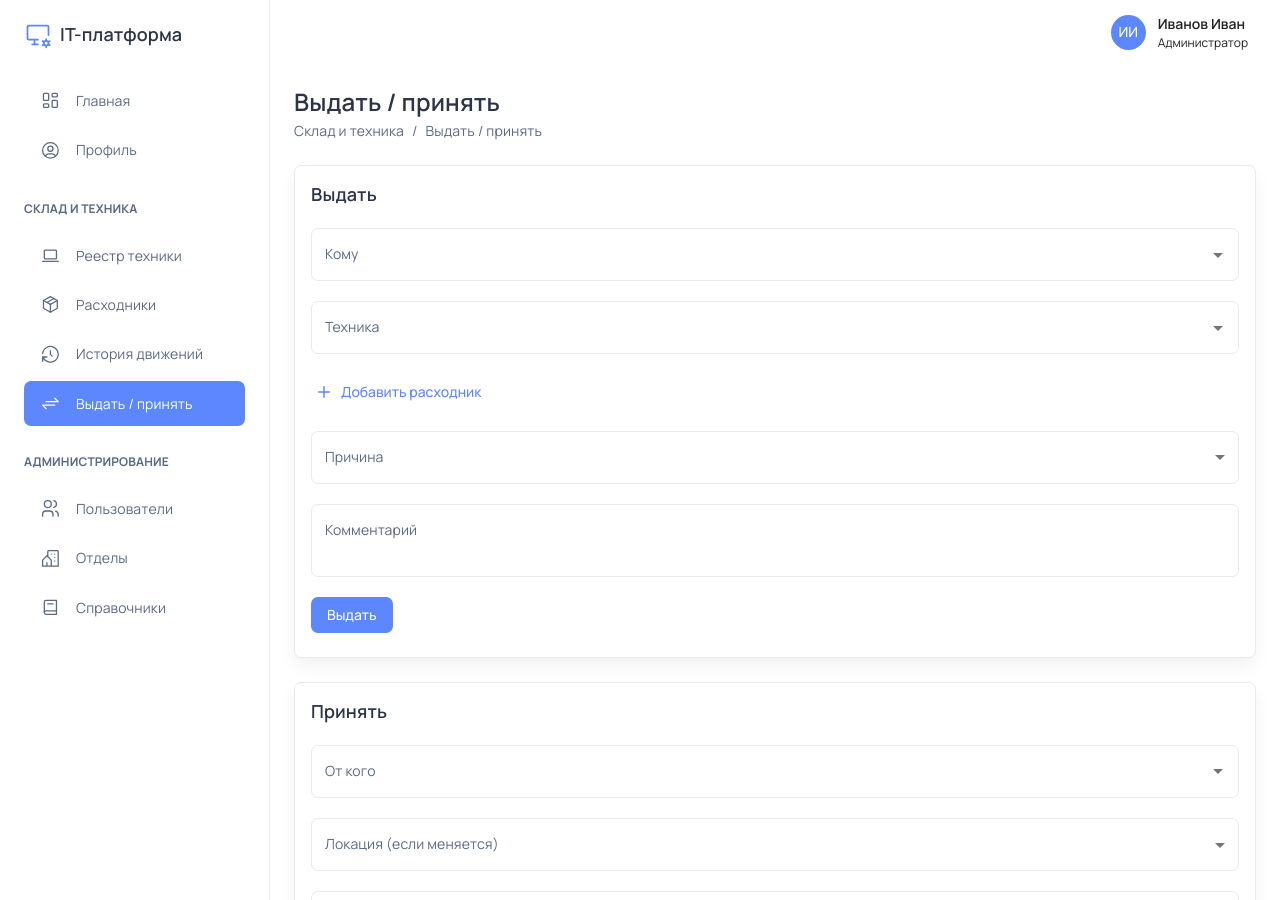
it: приём: техника сотрудника в работе, отмеченное уходит на склад
This screenshot has width=1280, height=900.
Click the dropdown labelled "От кого" at (760, 771), box [320,754,1200,789]
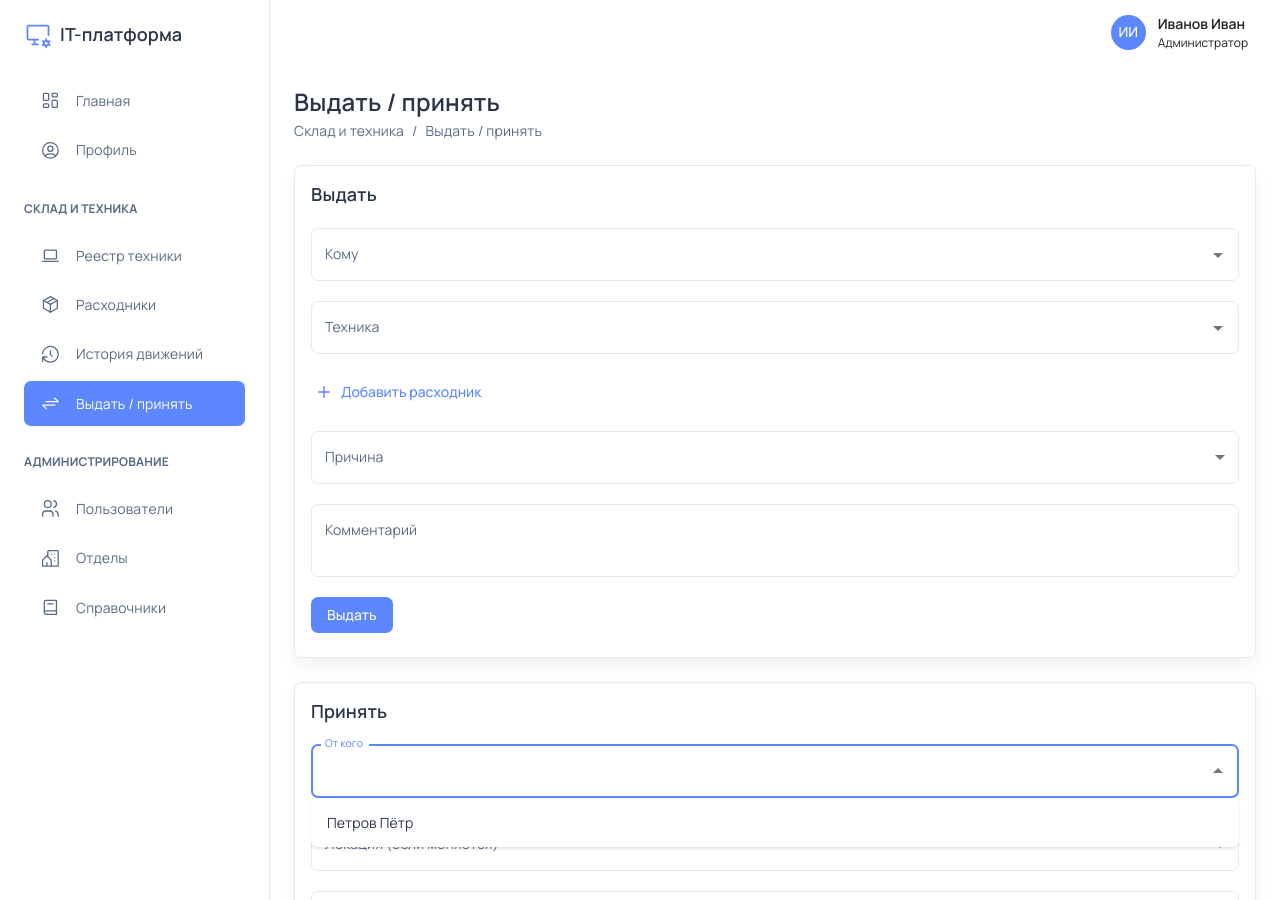
Click the option "Петров Пётр" at (370, 822), box [327,813,413,832]
(page scrolled)
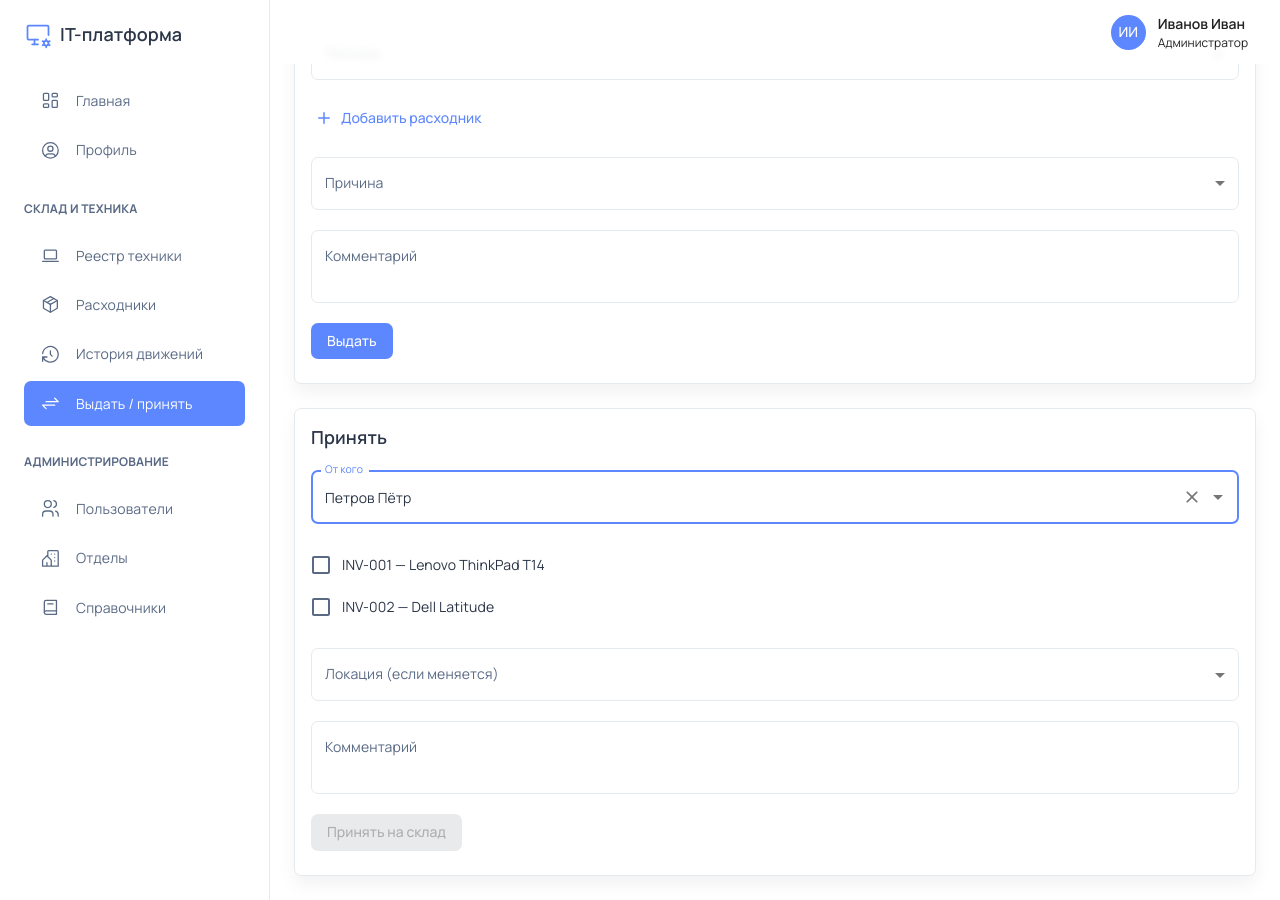
Click the checkbox labelled "INV-002 — Dell Latitude" at (402, 607), box [309,595,494,619]
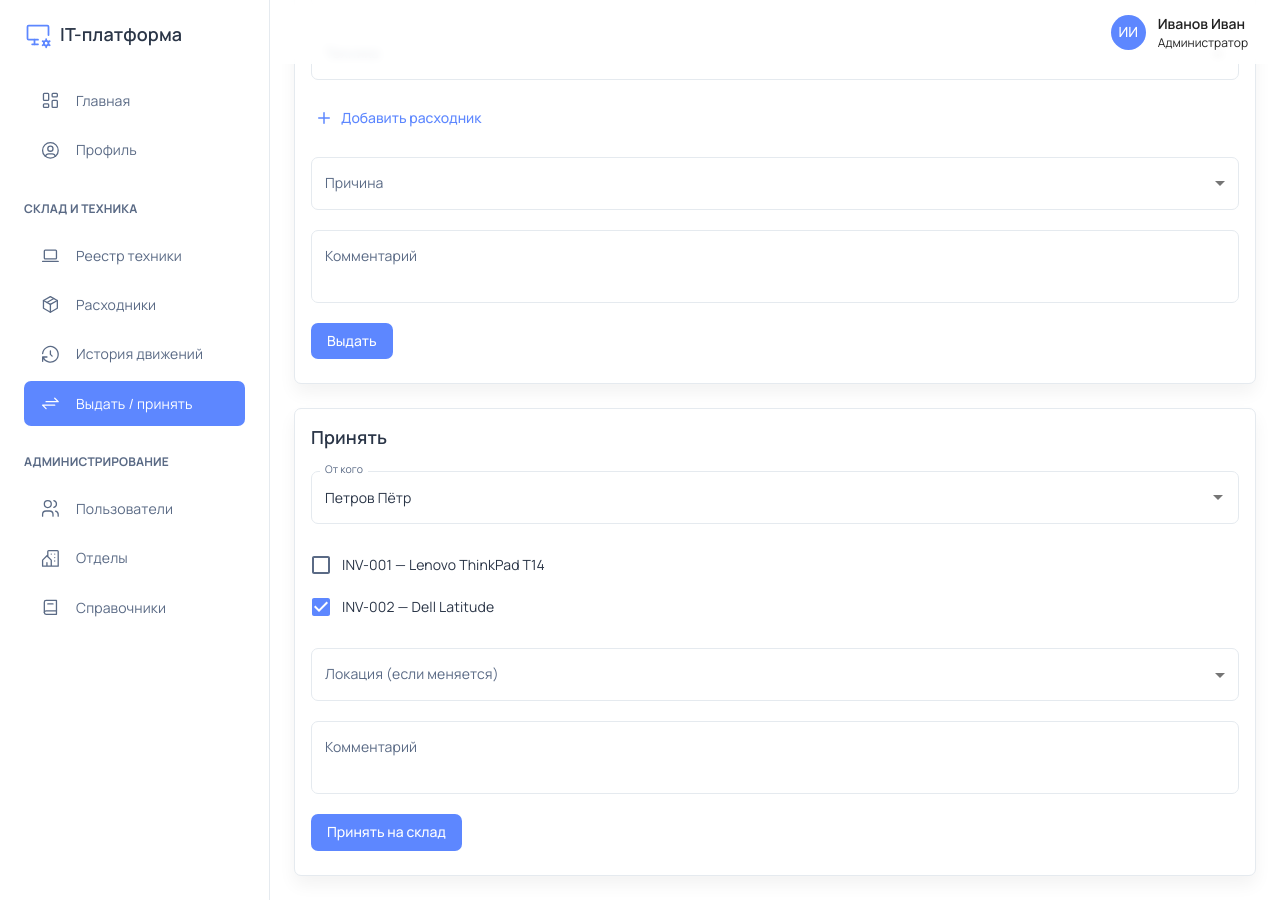
Click the dropdown named "Локация (если меняется)" next to "Локация (если меняется)" at (775, 675), box [311,648,1239,701]
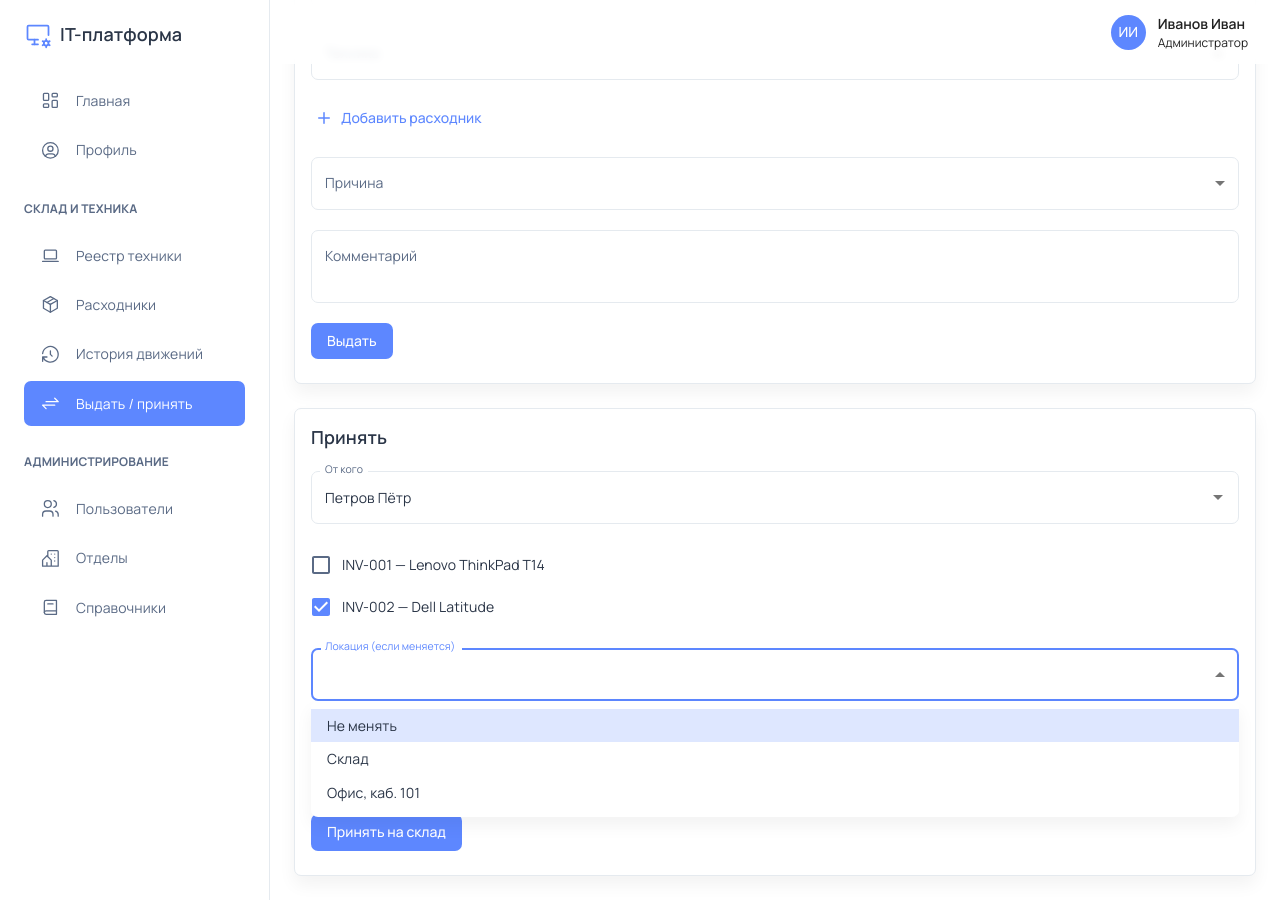
Click the option "Офис, каб. 101" at (374, 792), box [327,783,420,802]
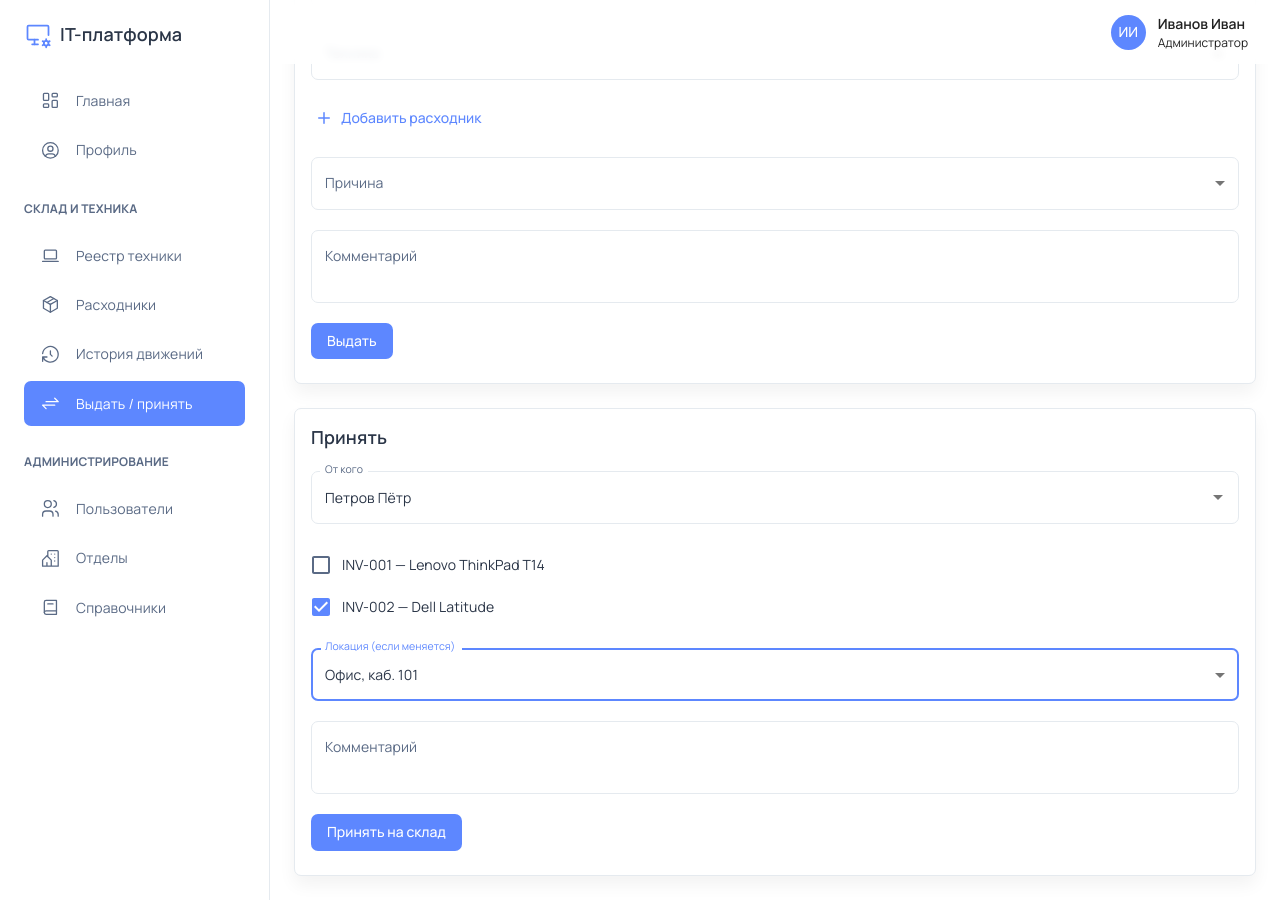
Click the button "Принять на склад" at (386, 832), box [311,814,462,851]
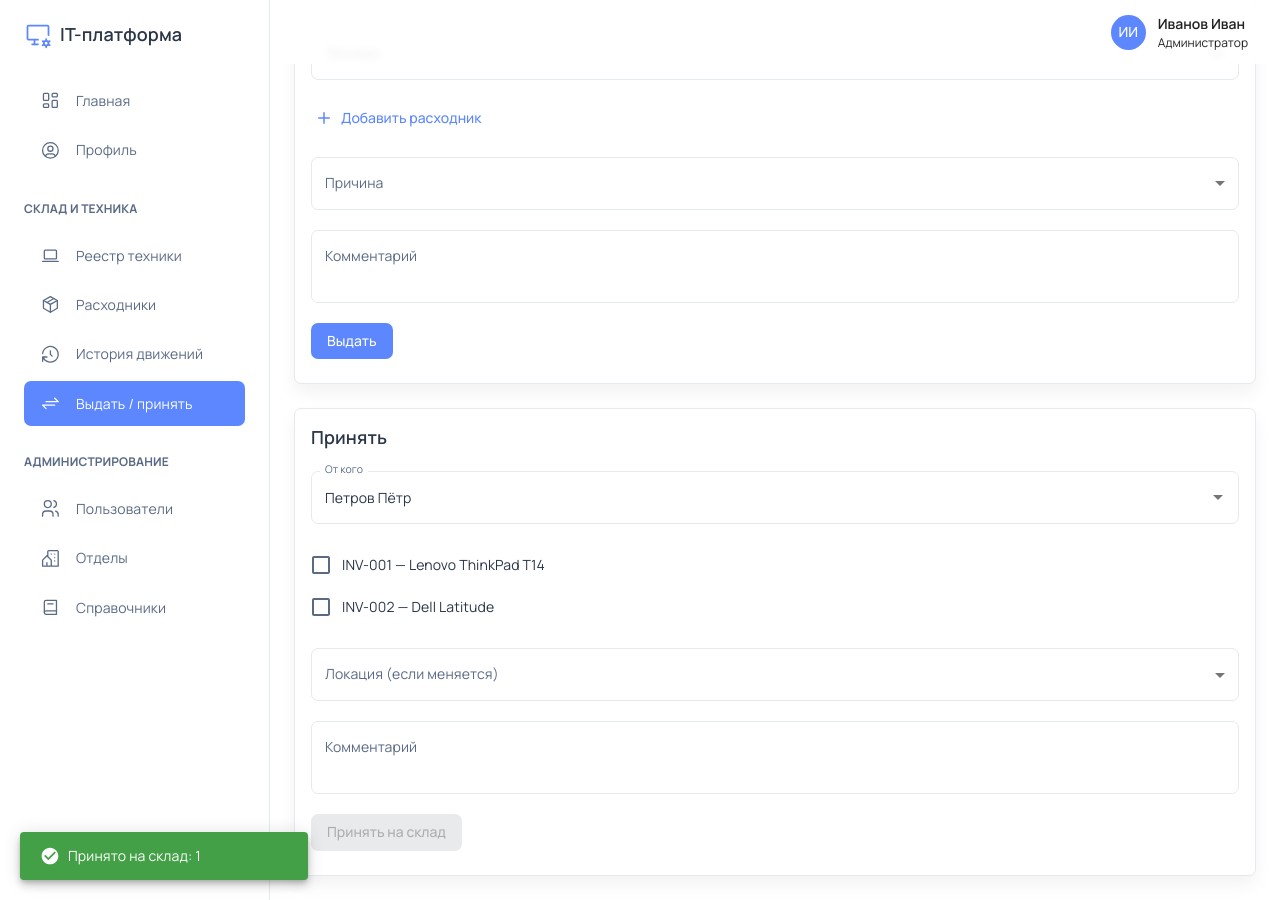
expect the text "Принято на склад: 1" is shown: met, box [40,846,201,866]
